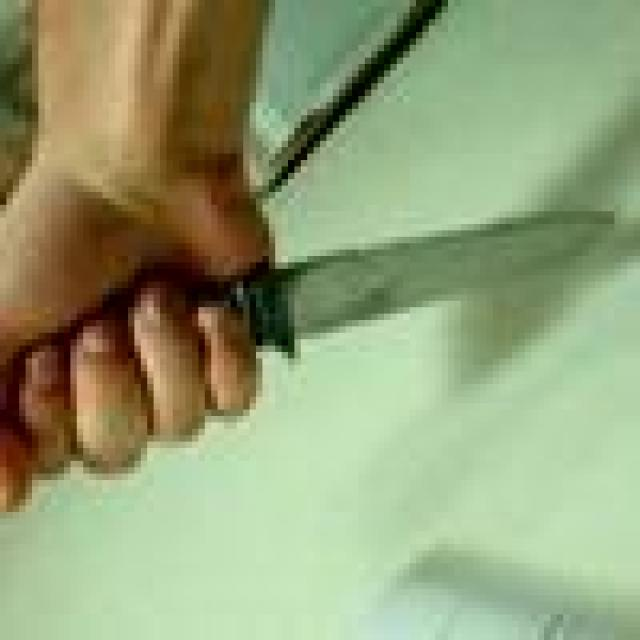knife: (282, 221, 618, 334)
